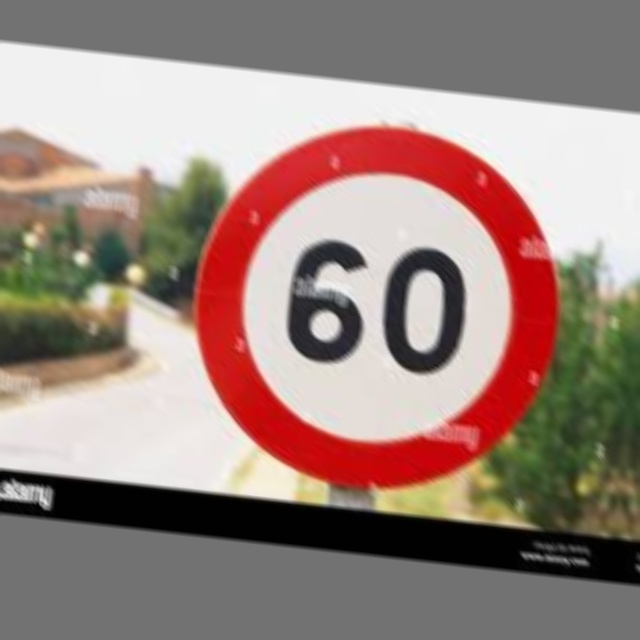Speed_Limit_60: (182, 109, 573, 492)
